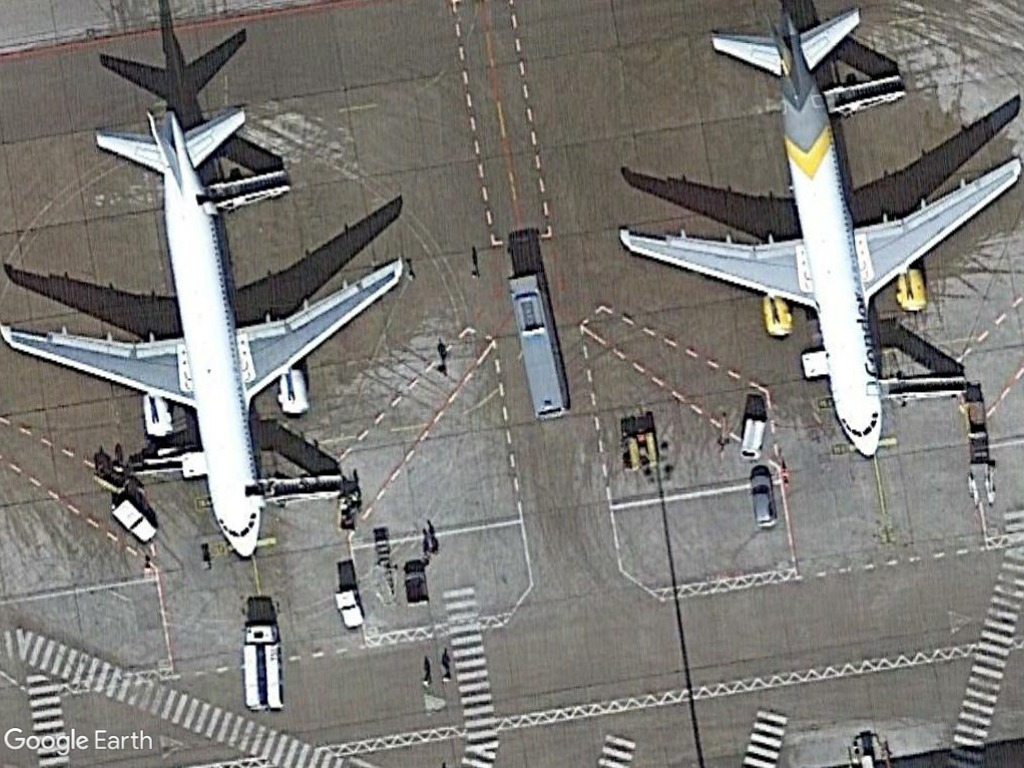airliner: (596, 1, 1024, 463), (1, 109, 416, 566)
bus: (503, 271, 582, 424)
car: (748, 471, 786, 533), (736, 416, 768, 464)
stairtruck: (206, 167, 310, 216), (824, 68, 914, 118), (257, 470, 351, 509), (879, 369, 974, 404)
truck: (240, 618, 290, 715)
